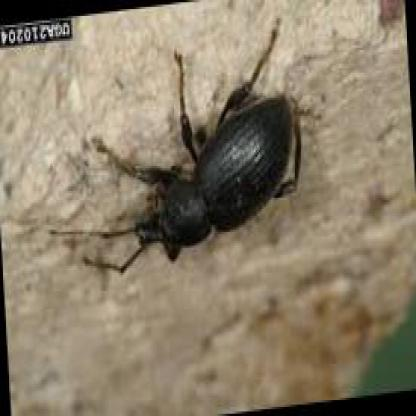ash weevil: (87, 25, 294, 275)
